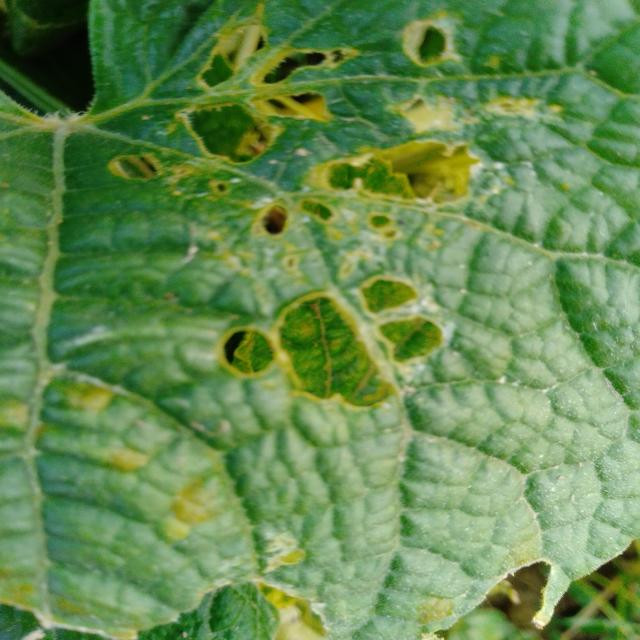cucumber_anthracnose: (90, 18, 626, 614)
